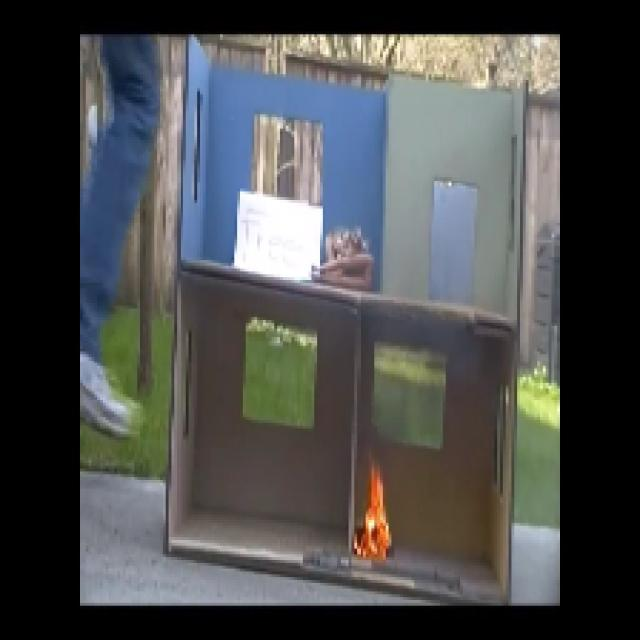Fire: (356, 463, 404, 552)
